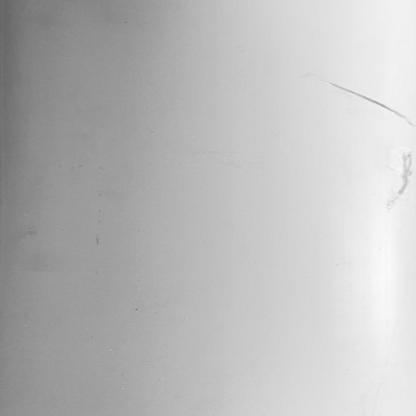sunshang: (326, 82, 416, 124), (390, 147, 416, 209)
